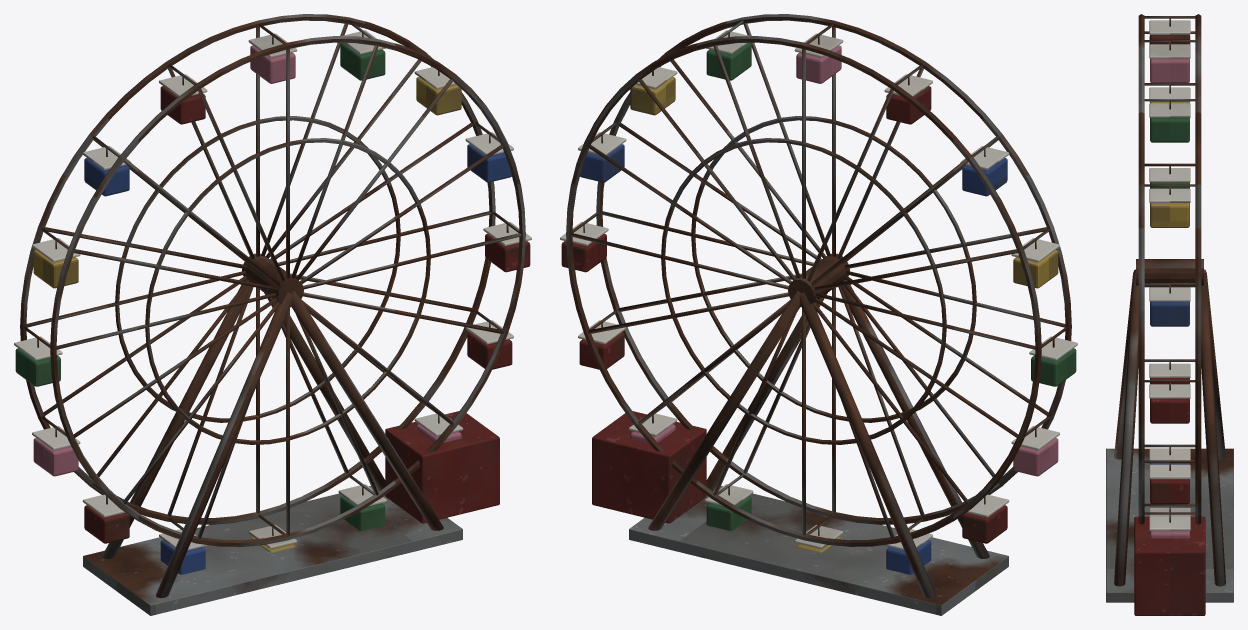
Rendered from C01_ferris_wheel.glb.
3 views of the same model, side by side, from view 1: azimuth 30°, elevation 25°; view 2: azimuth 150°, elevation 25°; view 3: azimuth 270°, elevation 25° (orthographic). The views are drawn at different scales.
Visible parts, largest first — view 1: C01_ferris_wheel; view 2: C01_ferris_wheel; view 3: C01_ferris_wheel.
Part boxes in pixels (x1,y1,x2,y2): C01_ferris_wheel: [14, 14, 531, 615]; C01_ferris_wheel: [560, 14, 1077, 615]; C01_ferris_wheel: [1106, 14, 1233, 615].
Size of the model in its own units: 19.47 by 20 by 4.6.
Materials: 8 (8 with a texture image).
